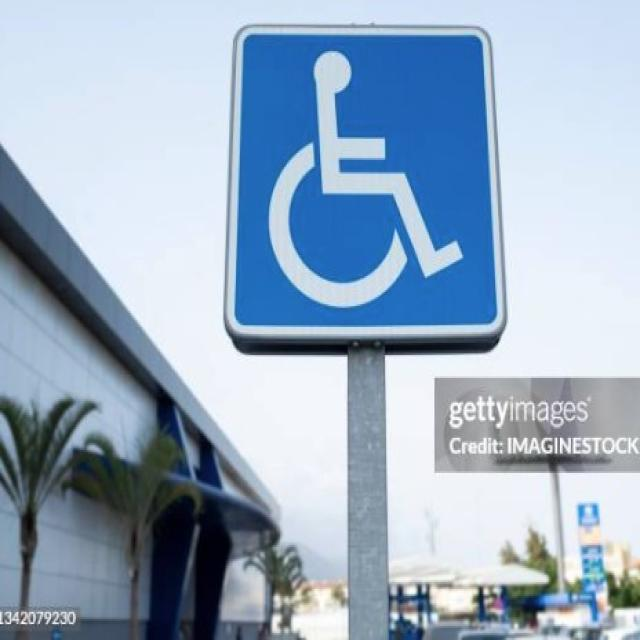symbol_of_access: (223, 20, 507, 338)
